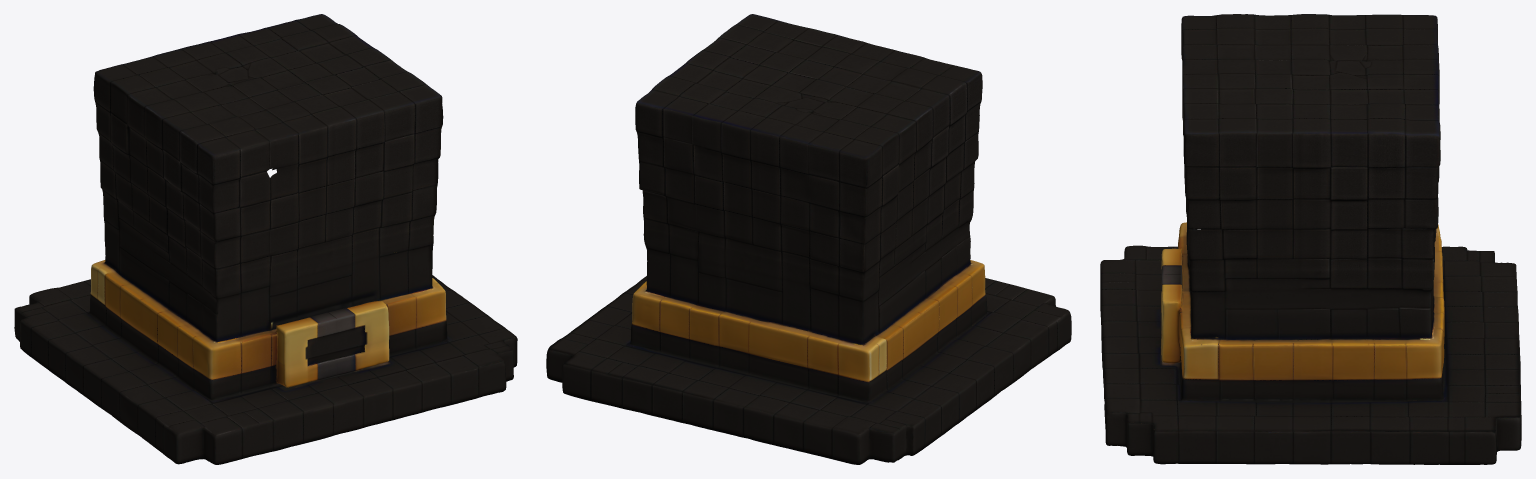
File: top_hat.glb
The picture shows the model from 3 angles, left to right: view 1: azimuth 30°, elevation 25°; view 2: azimuth 150°, elevation 25°; view 3: azimuth 270°, elevation 25°; orthographic projection. The views are drawn at different scales.
Parts seen in each view (by area): view 1: tripo_node_823f2c65; view 2: tripo_node_823f2c65; view 3: tripo_node_823f2c65.
Part boxes in pixels (box(x1,y1,x2,y2)): tripo_node_823f2c65: box(14, 14, 517, 464); tripo_node_823f2c65: box(546, 14, 1071, 464); tripo_node_823f2c65: box(1100, 14, 1521, 464).
Size of the model in its own units: 98.09 by 73.71 by 93.03.
1 material, 1 textured.
